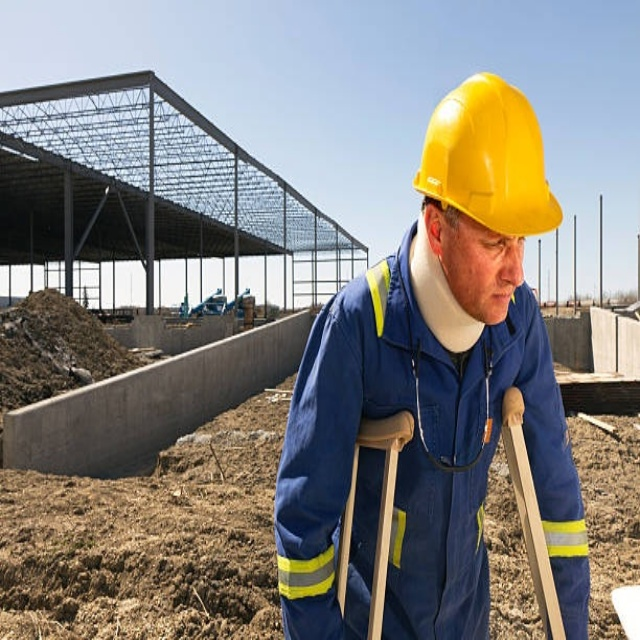Sin_gafas: (458, 223, 536, 259)
Sin_mascara: (475, 278, 521, 318)
